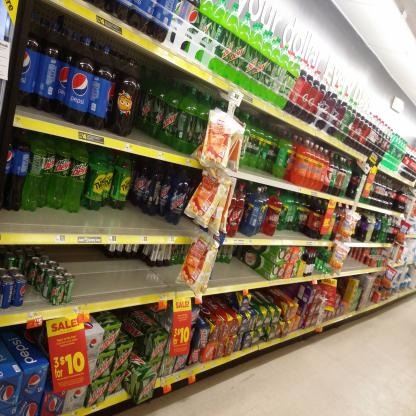Void: (70, 246, 164, 288), (103, 208, 155, 231), (216, 264, 258, 282), (124, 311, 152, 338), (135, 125, 162, 149)
